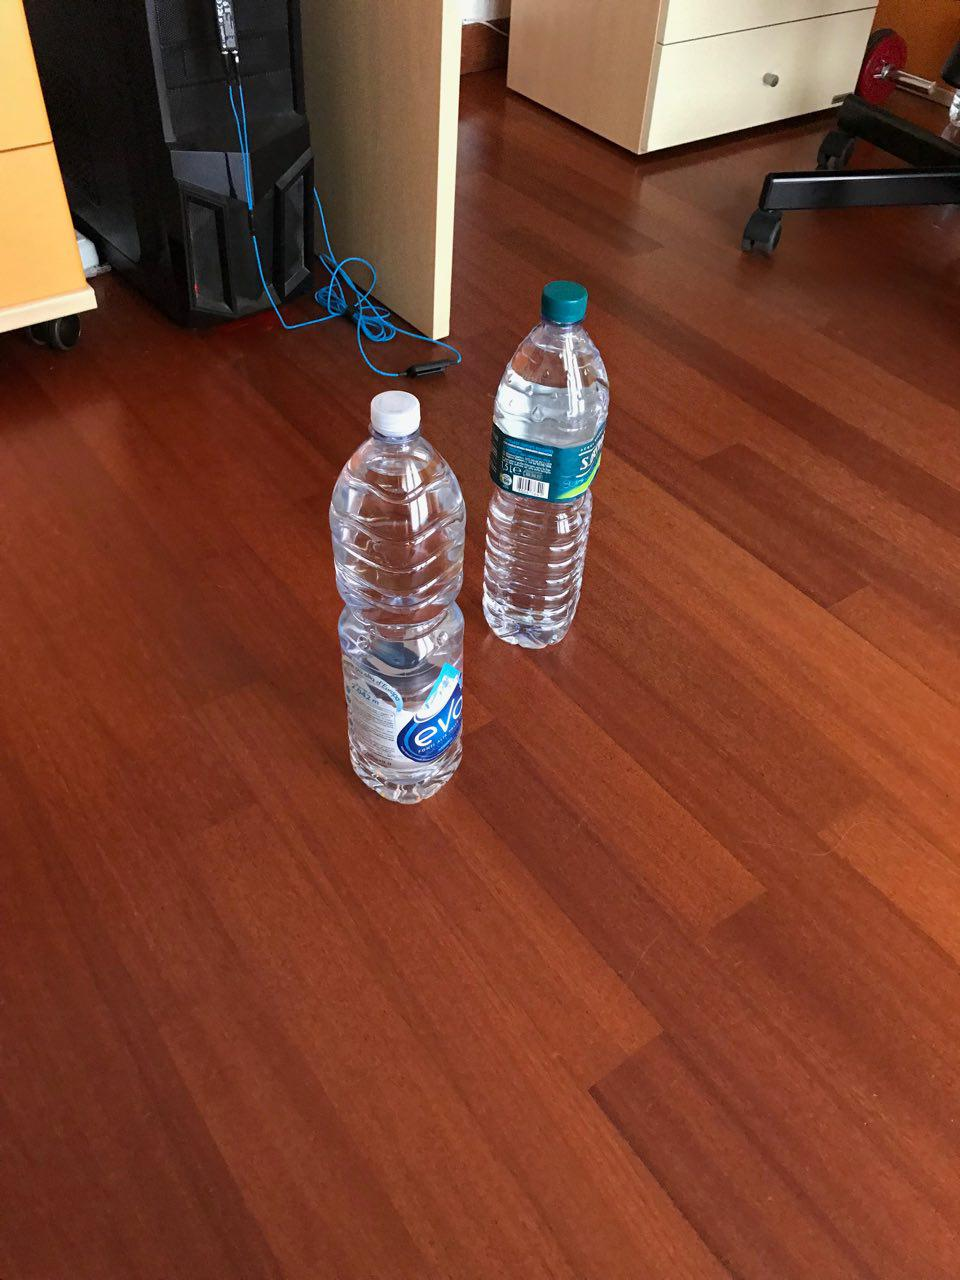san_bernardo: (481, 278, 611, 651)
